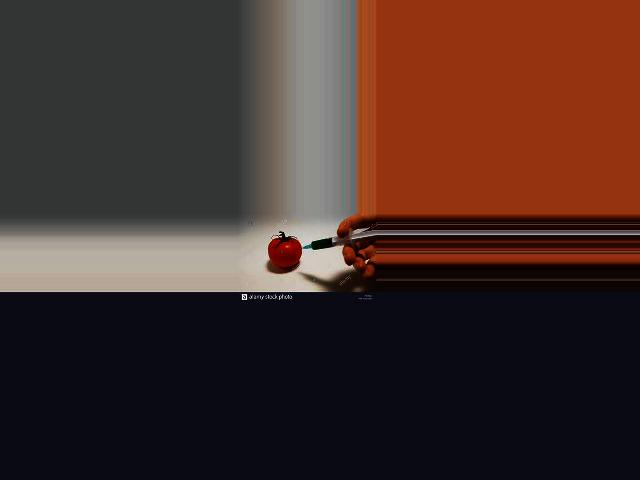tomato: (269, 238, 302, 268)
